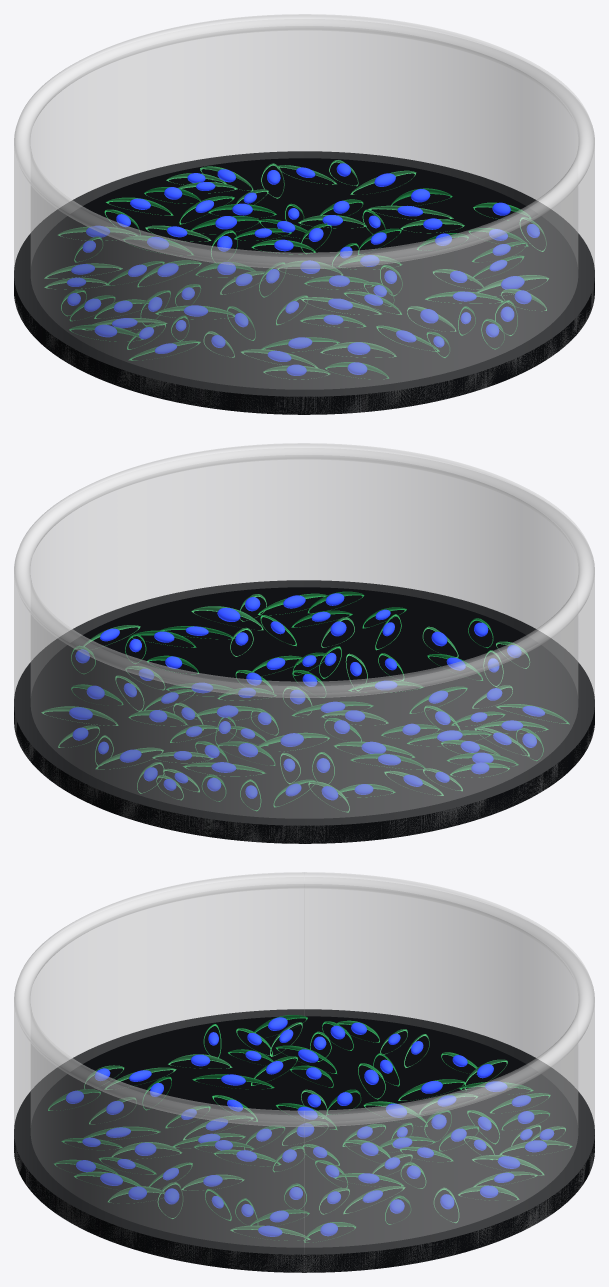
The model's file is placa-petri-celulas-destaque.glb.
3 renders of one model, top to bottom at view 1: azimuth 30°, elevation 25°; view 2: azimuth 150°, elevation 25°; view 3: azimuth 270°, elevation 25°, orthographic.
Parts seen in each view (by area): view 1: dish_wall, dish_wall_inner, culture_floor, dish_rim, cell_nuclei, cell_monolayer; view 2: dish_wall, dish_wall_inner, culture_floor, dish_rim, cell_nuclei, cell_monolayer; view 3: dish_wall, dish_wall_inner, culture_floor, dish_rim, cell_nuclei, cell_monolayer.
Part boxes in pixels (x1,y1,x2,y2): dish_wall: (14, 31, 594, 413); dish_wall_inner: (31, 26, 577, 388); culture_floor: (14, 151, 594, 414); dish_rim: (14, 14, 594, 268); cell_nuclei: (67, 163, 539, 375); cell_monolayer: (44, 160, 548, 379); dish_wall: (14, 460, 594, 843); dish_wall_inner: (31, 455, 577, 817); culture_floor: (14, 580, 594, 843); dish_rim: (14, 443, 594, 697); cell_nuclei: (69, 593, 544, 800); cell_monolayer: (41, 591, 569, 812); dish_wall: (14, 889, 594, 1272); dish_wall_inner: (31, 884, 577, 1246); culture_floor: (14, 1009, 594, 1272); dish_rim: (14, 872, 594, 1126); cell_nuclei: (66, 1017, 554, 1236); cell_monolayer: (48, 1015, 572, 1242).
Size of the model in its own units: 0.035 by 0.0105 by 0.035.
